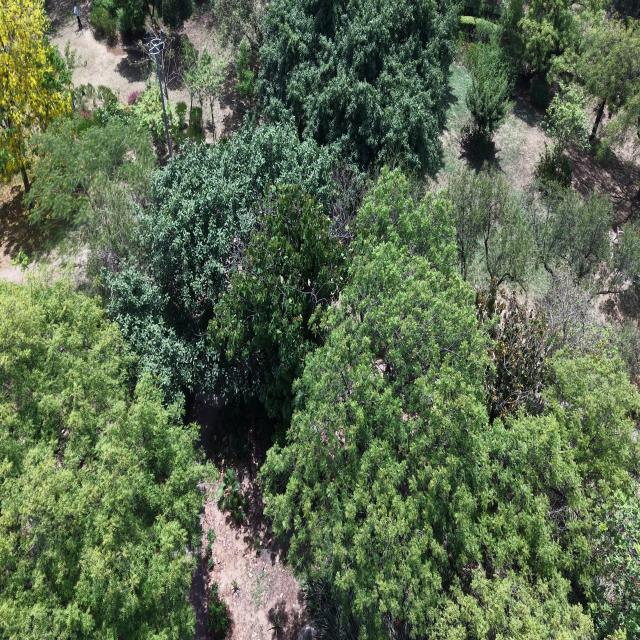DRY_AREA: (187, 397, 313, 639), (191, 451, 308, 639), (192, 500, 305, 639), (46, 0, 150, 102), (46, 0, 146, 101), (46, 0, 145, 101), (0, 177, 87, 283), (437, 62, 481, 185), (436, 62, 473, 186), (0, 177, 39, 282)
VEGETATION_TREE: (0, 0, 639, 639), (261, 170, 639, 638), (261, 173, 639, 638), (261, 172, 485, 637), (0, 280, 204, 639), (102, 124, 334, 397), (210, 183, 354, 423), (258, 0, 459, 171), (462, 0, 605, 186), (444, 166, 639, 301), (24, 86, 157, 277), (495, 0, 639, 148), (23, 85, 164, 226), (462, 0, 582, 157), (25, 116, 156, 224), (0, 0, 70, 192), (78, 120, 157, 288), (555, 12, 639, 145), (445, 166, 535, 286), (477, 286, 557, 421), (527, 183, 613, 282), (498, 0, 598, 81), (576, 16, 639, 141), (74, 85, 167, 160), (589, 500, 639, 637), (588, 17, 639, 150), (534, 267, 607, 353), (463, 44, 513, 157), (537, 84, 588, 186), (511, 0, 580, 73), (180, 37, 227, 140), (138, 19, 194, 101), (182, 47, 226, 141), (90, 0, 194, 39), (601, 223, 639, 317), (301, 580, 360, 639), (212, 0, 268, 53), (132, 86, 173, 156), (199, 48, 226, 141), (131, 85, 166, 154), (614, 297, 639, 385), (97, 0, 154, 35), (71, 83, 120, 123), (497, 0, 524, 70), (216, 467, 248, 523), (180, 37, 199, 124), (536, 144, 572, 189), (80, 100, 134, 125), (207, 582, 230, 639), (152, 0, 195, 30), (236, 40, 255, 99), (90, 4, 117, 44), (460, 16, 498, 39), (528, 75, 551, 109), (172, 102, 187, 144), (606, 0, 639, 19), (187, 107, 204, 143), (269, 603, 286, 637), (11, 250, 30, 273), (205, 528, 216, 557), (127, 90, 143, 106), (232, 580, 240, 595), (208, 557, 215, 570)
